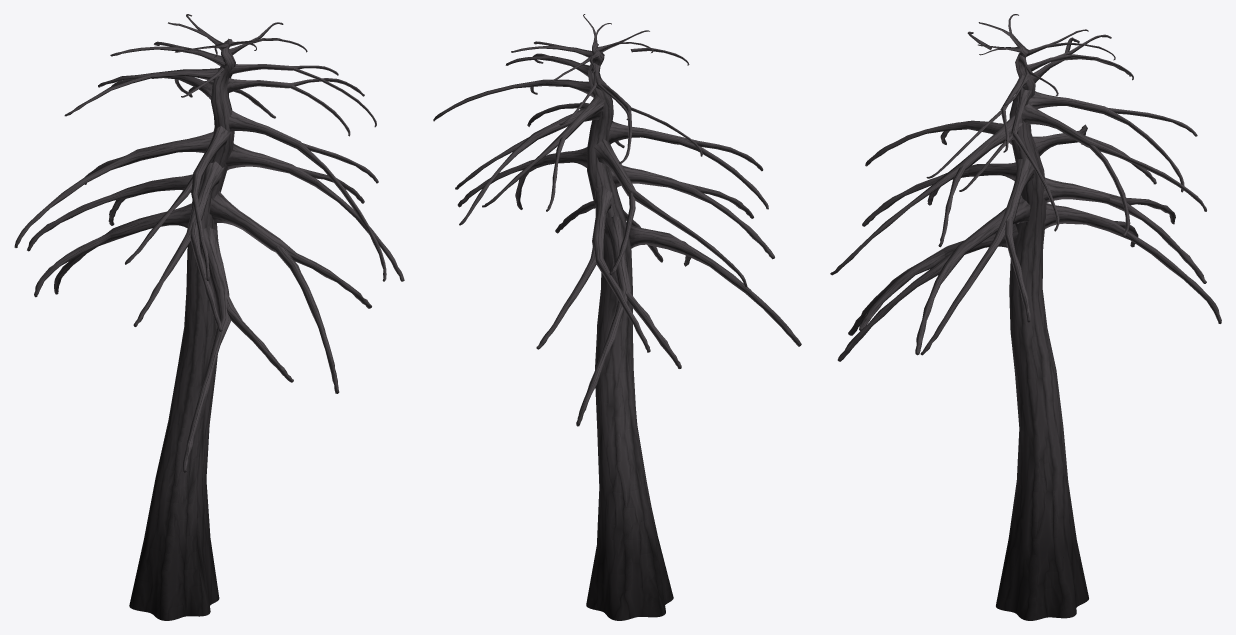
The model's file is DeadTree_4.gltf.
The picture shows the model from 3 angles, left to right: view 1: azimuth 30°, elevation 25°; view 2: azimuth 150°, elevation 25°; view 3: azimuth 270°, elevation 25°; orthographic projection. The views are drawn at different scales.
Visible parts, largest first — view 1: DeadTree_4; view 2: DeadTree_4; view 3: DeadTree_4.
Boxes of the visible parts, left/top/right/bottom form: DeadTree_4: left=14, top=14, right=404, bottom=620; DeadTree_4: left=433, top=14, right=801, bottom=620; DeadTree_4: left=830, top=14, right=1221, bottom=620.
Size of the model in its own units: 7.96 by 12.77 by 7.73.
Materials: 1 (1 with a texture image).
